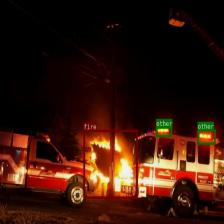fire: (83, 130, 137, 198)
